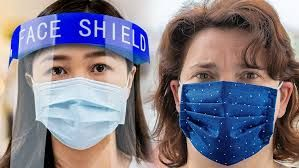with-mask: (170, 17, 294, 168), (20, 9, 143, 153)
